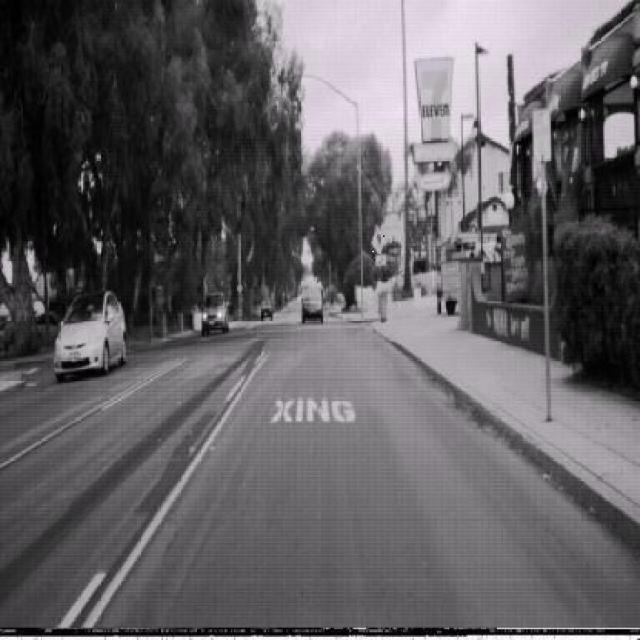pedestrianCrossing: (372, 224, 388, 256)
